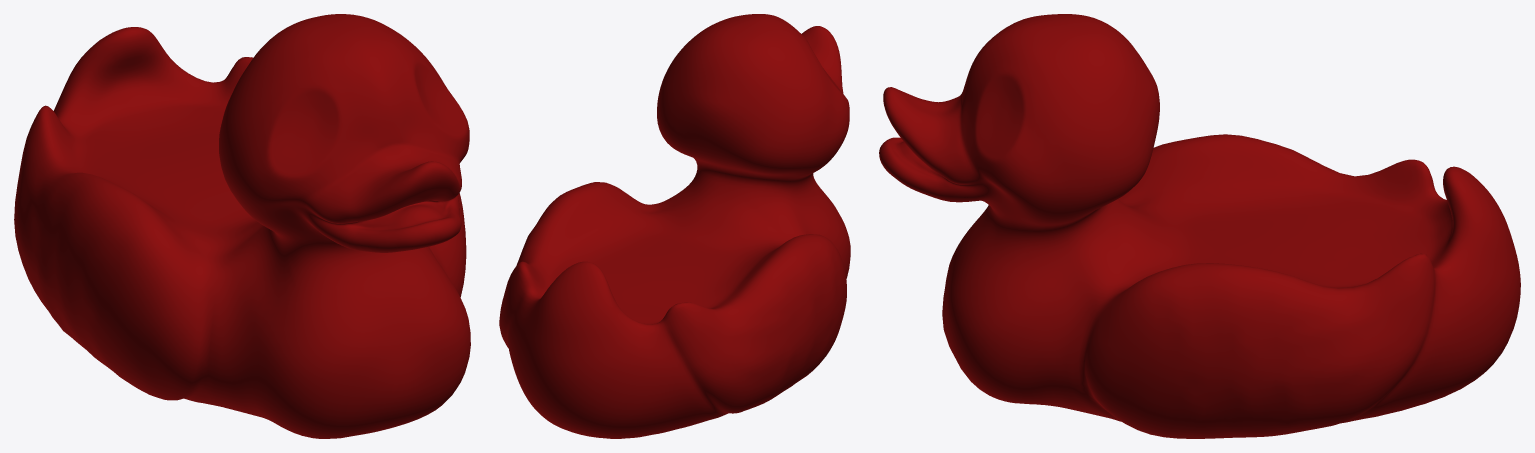
The model's file is duck.obj.
The picture shows the model from 3 angles, left to right: view 1: azimuth 30°, elevation 25°; view 2: azimuth 150°, elevation 25°; view 3: azimuth 270°, elevation 25°; orthographic projection. The views are drawn at different scales.
Parts seen in each view (by area): view 1: duck; view 2: duck; view 3: duck.
Part boxes in pixels (box(x1,y1,x2,y2)): duck: box(14, 14, 470, 438); duck: box(499, 14, 850, 438); duck: box(879, 14, 1520, 438).
Bounding box in the file's own units: 2.4 × 2.51 × 3.98.
